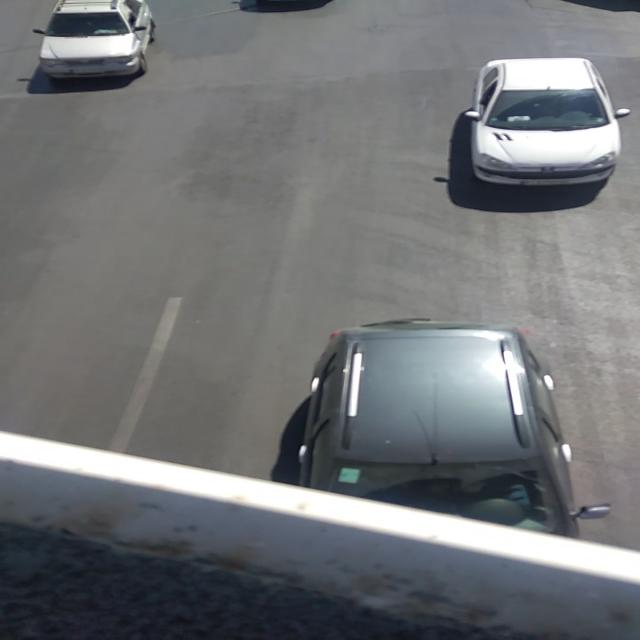car: (295, 317, 613, 537), (462, 56, 632, 186), (36, 1, 152, 78)
